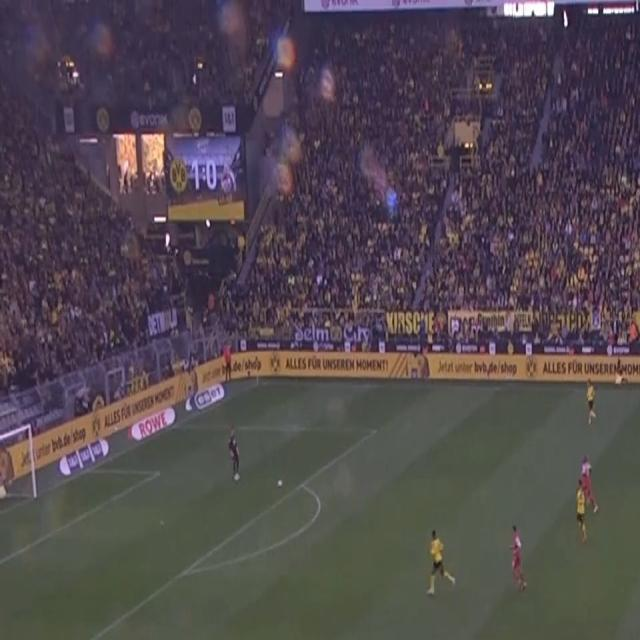ball: (277, 477, 283, 489)
